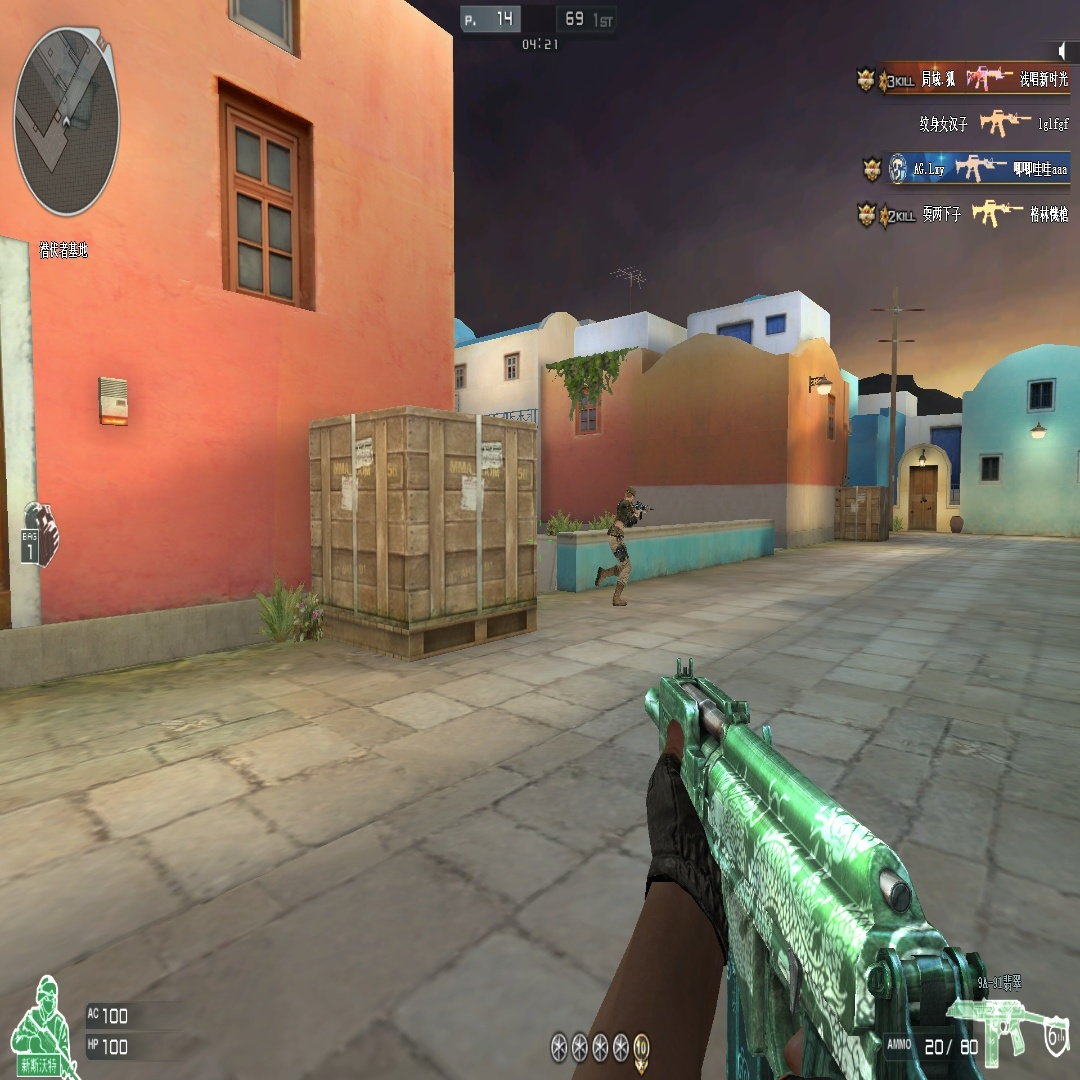head: (623, 486, 637, 503)
p: (598, 484, 643, 608)
